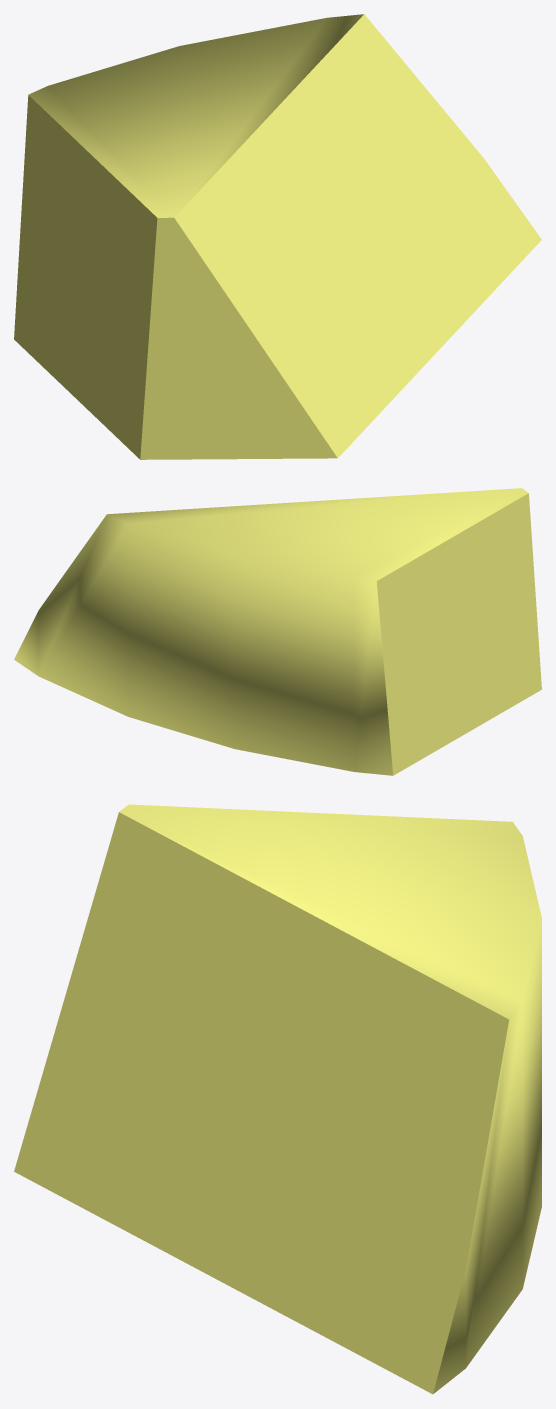
Rendered from breakableCenter_cell_016.fbx.
3 renders of one model, top to bottom at view 1: azimuth 30°, elevation 25°; view 2: azimuth 150°, elevation 25°; view 3: azimuth 270°, elevation 25°, orthographic. The views are drawn at different scales.
Parts seen in each view (by area): view 1: breakableCenter_cell.016; view 2: breakableCenter_cell.016; view 3: breakableCenter_cell.016.
Part boxes in pixels (x1,y1,x2,y2): breakableCenter_cell.016: [14, 14, 541, 459]; breakableCenter_cell.016: [14, 488, 541, 775]; breakableCenter_cell.016: [14, 804, 541, 1394].
Size of the model in its own units: 32.72 by 14.14 by 23.45.
